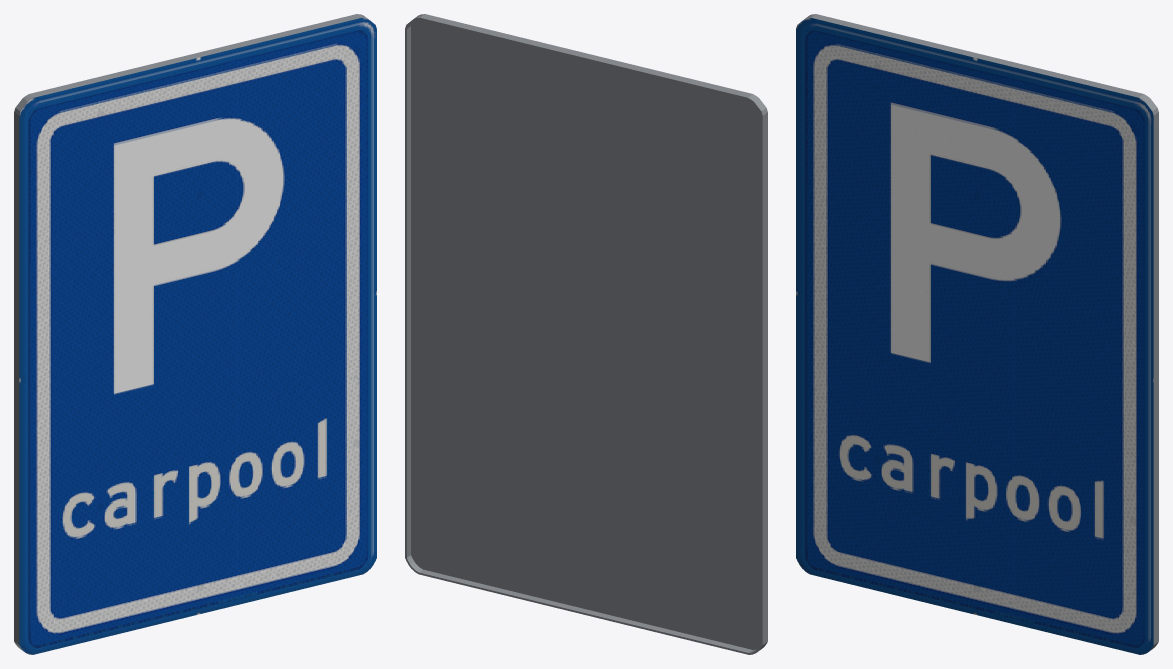
The picture shows the model from 3 angles, left to right: view 1: azimuth 30°, elevation 25°; view 2: azimuth 150°, elevation 25°; view 3: azimuth 330°, elevation 25°; orthographic projection.
Visible parts, largest first — view 1: cat_c1ac58fd396d8907; view 2: cat_c1ac58fd396d8907; view 3: cat_c1ac58fd396d8907.
Part boxes in pixels (box(x1,y1,x2,y2)): cat_c1ac58fd396d8907: box(14, 14, 376, 654); cat_c1ac58fd396d8907: box(405, 14, 767, 654); cat_c1ac58fd396d8907: box(796, 14, 1158, 654).
Bounding box in the file's own units: 0.6 × 0.015 × 0.8927.
2 materials, 1 textured.
